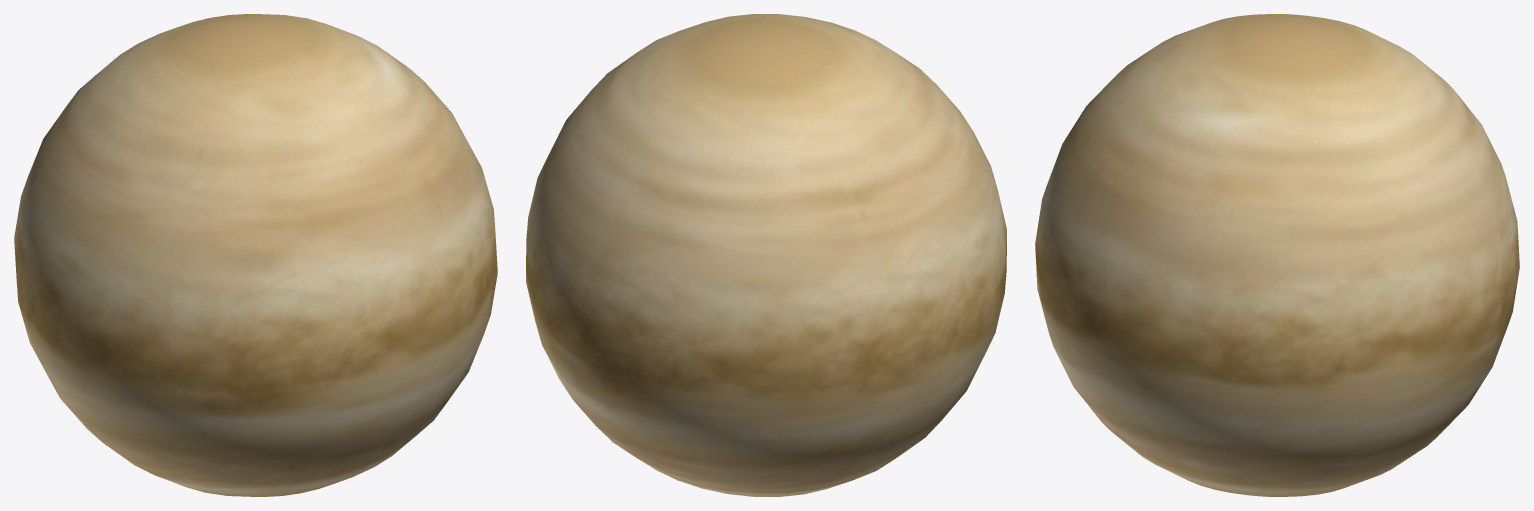
File: venus.glb
3 renders of one model, left to right at view 1: azimuth 30°, elevation 25°; view 2: azimuth 150°, elevation 25°; view 3: azimuth 270°, elevation 25°, orthographic.
Parts seen in each view (by area): view 1: 球; view 2: 球; view 3: 球.
Part boxes in pixels (box(x1,y1,x2,y2)): 球: box(14, 14, 497, 496); 球: box(526, 14, 1006, 496); 球: box(1035, 14, 1519, 496).
Bounding box in the file's own units: 2 × 2 × 2.
Materials: 1 (1 with a texture image).
